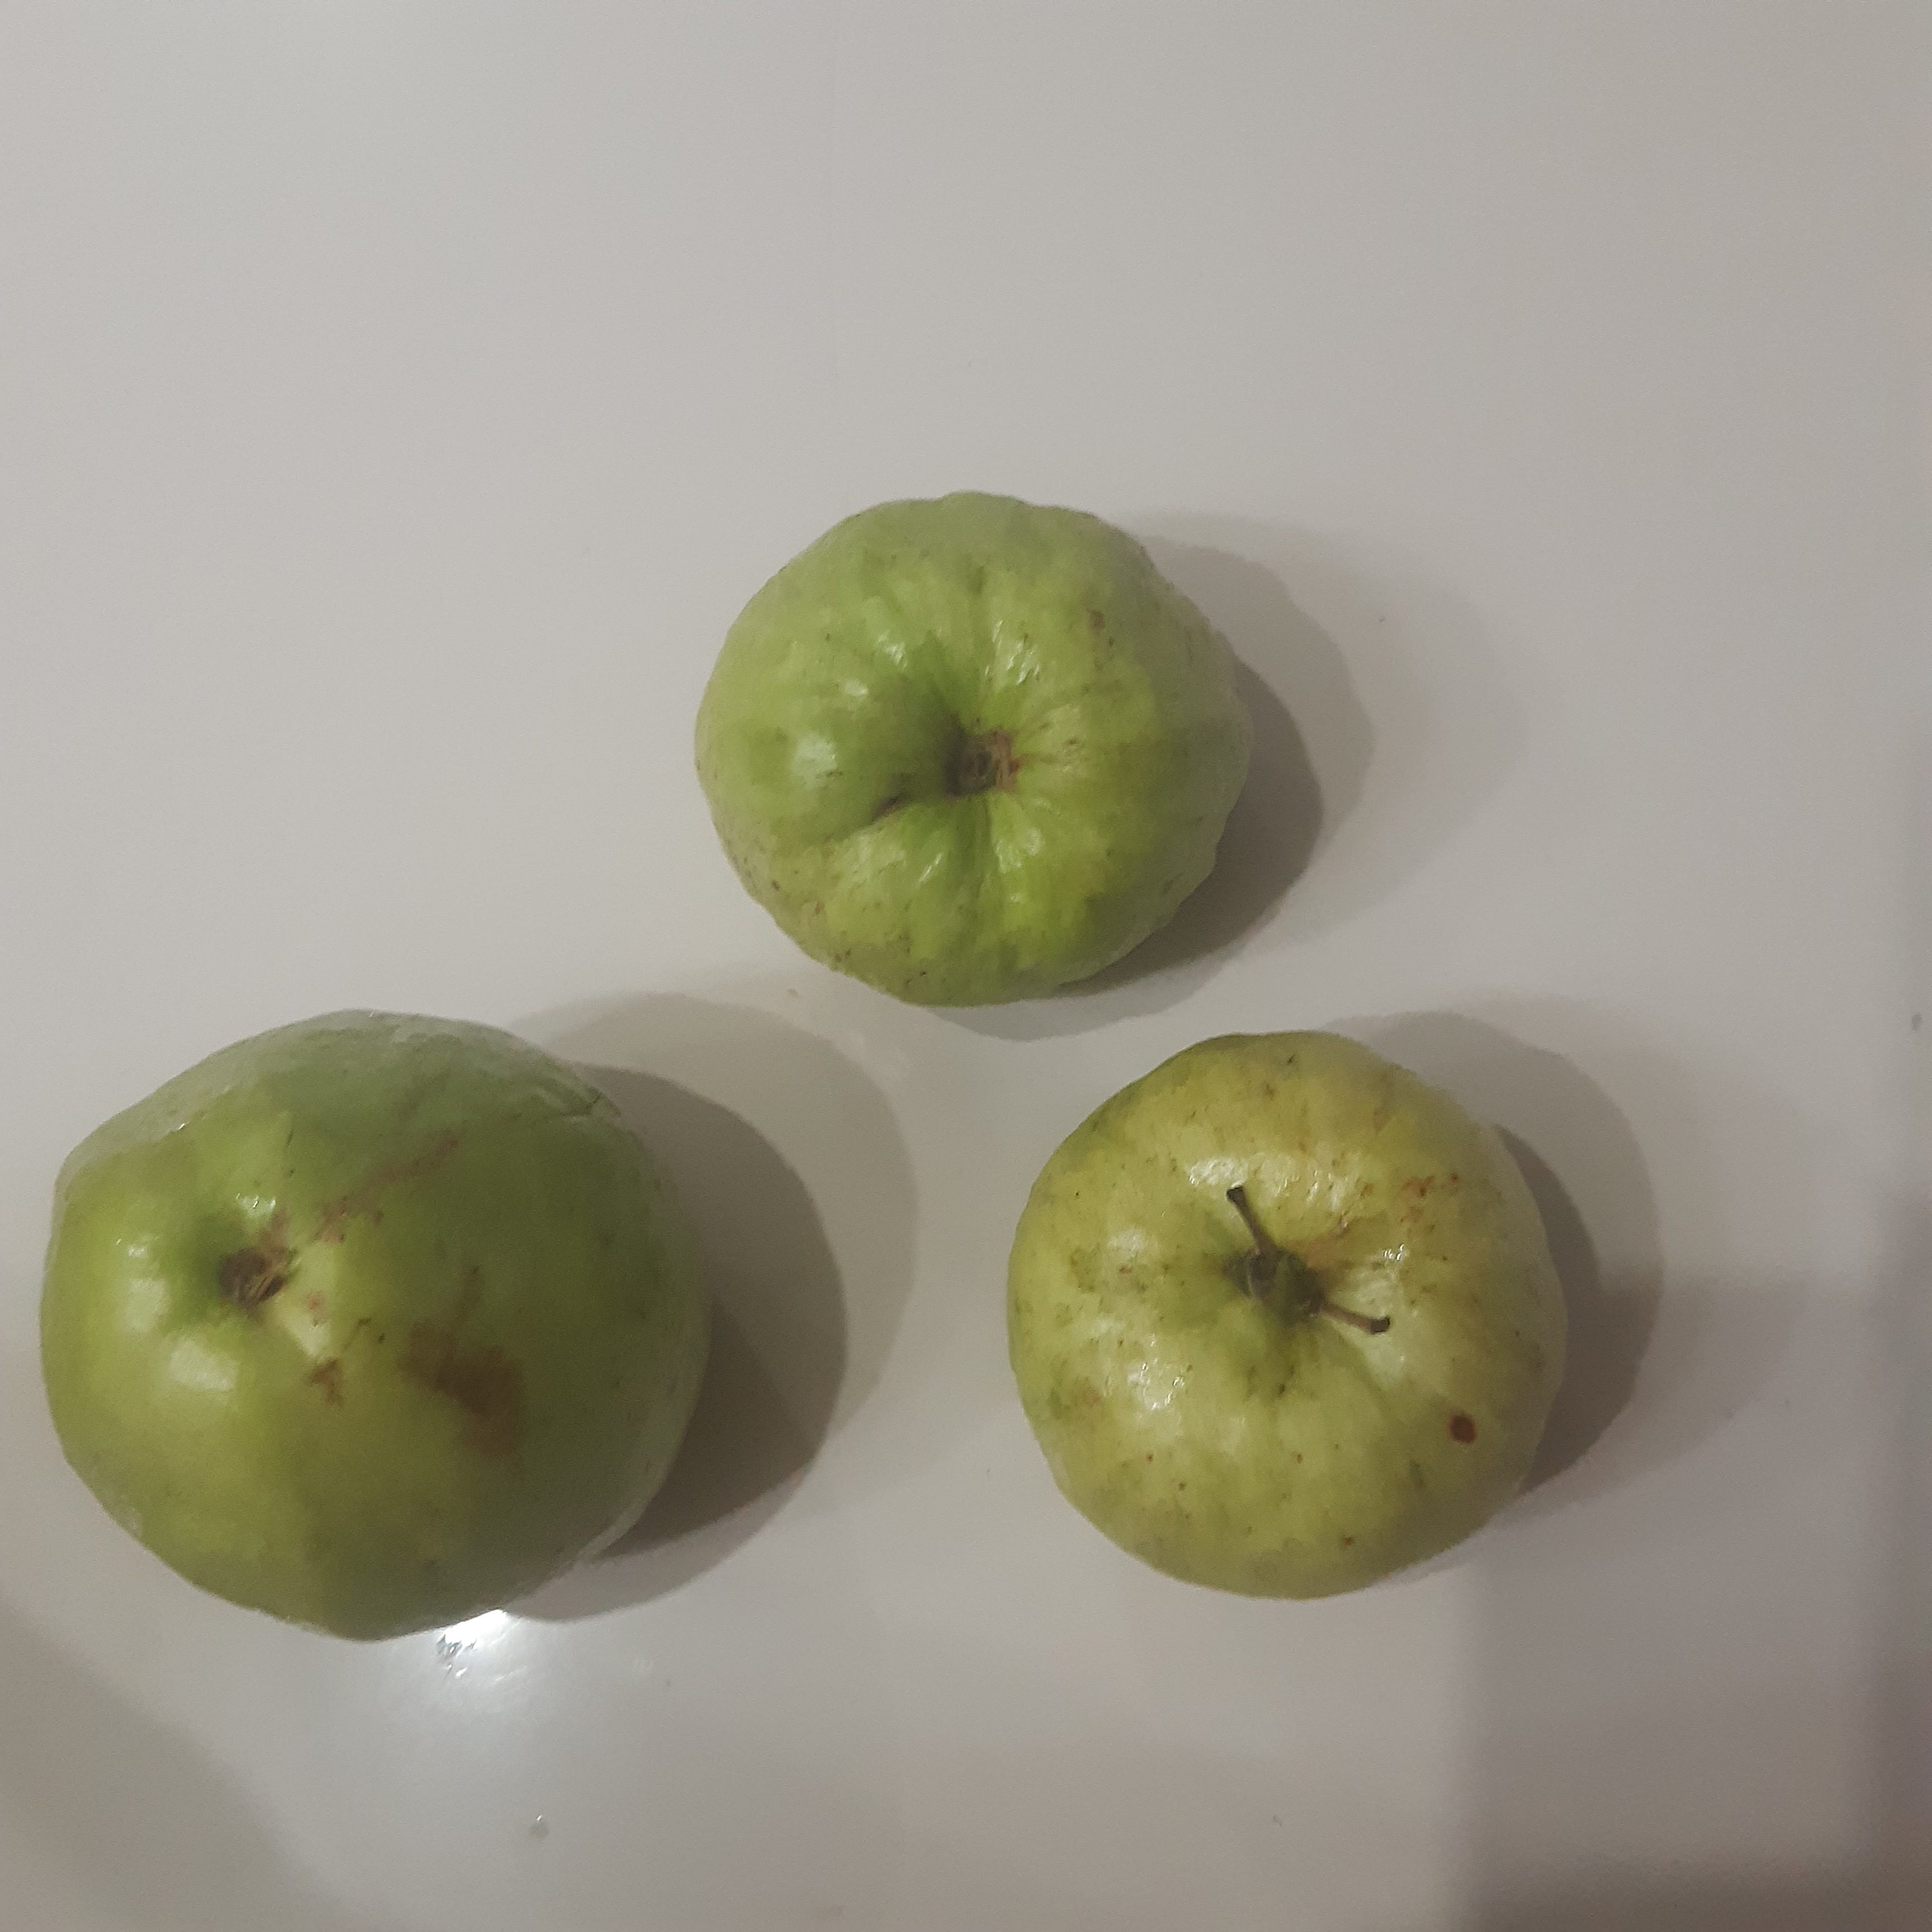Oi: (39, 1012, 717, 1644), (1012, 1033, 1566, 1601), (694, 492, 1254, 1007)
